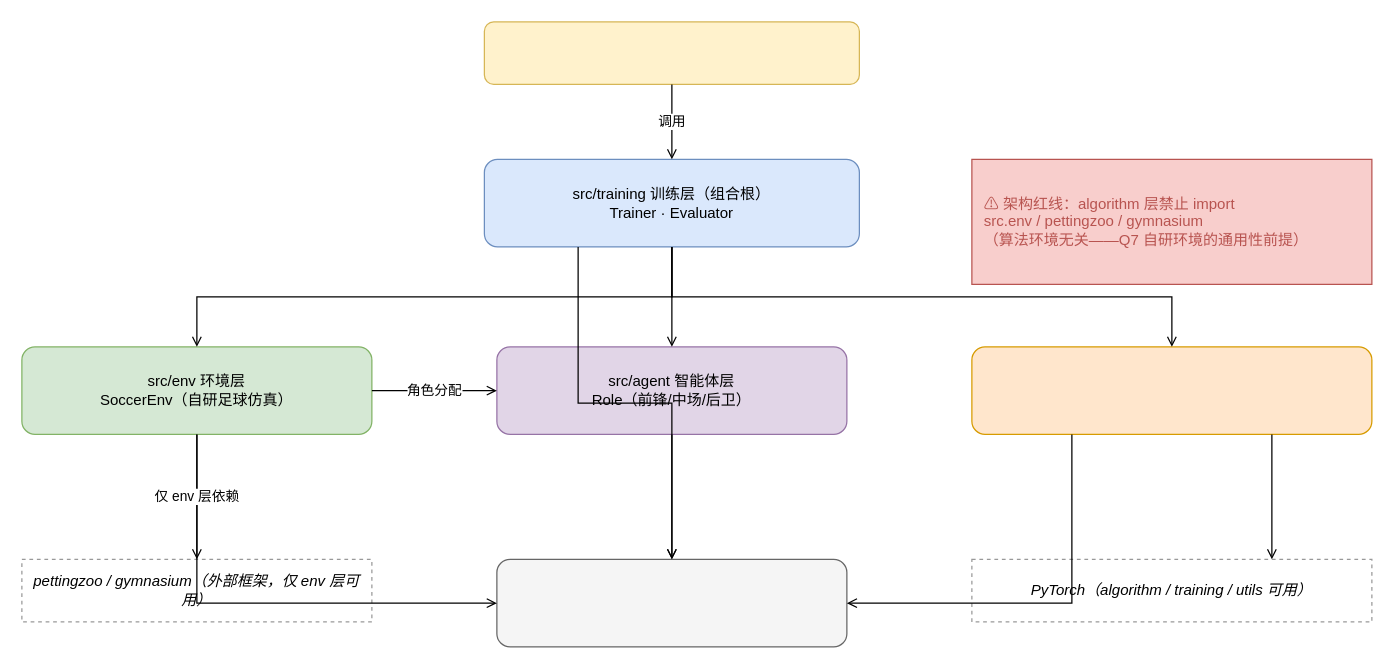
This 1394x669 diagram has some shape labels left out. Each missing label, with the box of its shape:
scripts 入口层（smoke_skeleton / train / eval）: (483, 21, 859, 84)
src/algorithm 算法层 BaseAlgo · MADDPG · QMIX · IQL · ReplayBuffer: (971, 346, 1372, 434)
src/utils 工具层 seed · config · logger · checkpoint: (496, 558, 847, 647)
